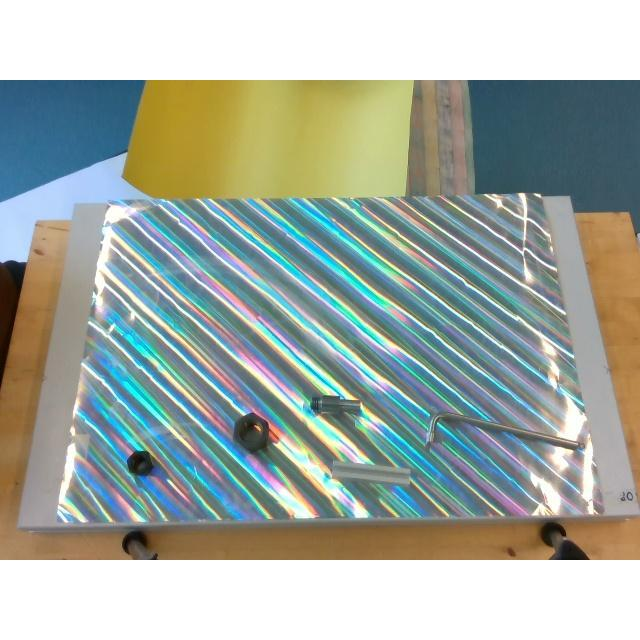AllenKey: (424, 412, 584, 452)
Axis2: (310, 396, 360, 416)
F20_20_G: (330, 462, 410, 486)
M20: (126, 450, 154, 474)
M30: (232, 412, 268, 452)
